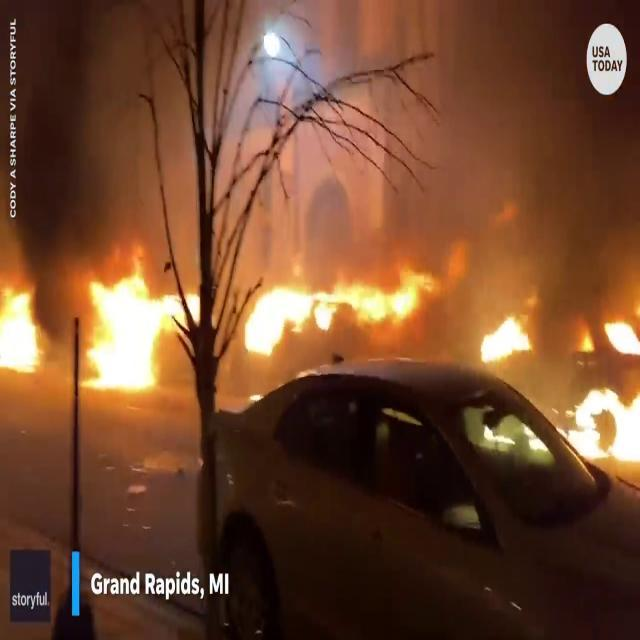Fire: (236, 259, 434, 358), (80, 258, 188, 396), (564, 291, 640, 473), (0, 279, 47, 377), (472, 308, 534, 370)
Smoke: (21, 1, 608, 255)
